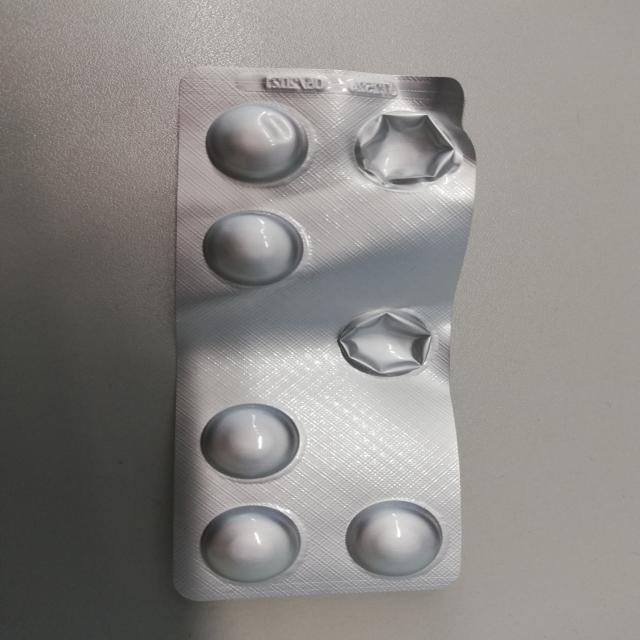Empty: (344, 97, 466, 192), (334, 302, 446, 381)
Pill: (192, 499, 308, 590), (198, 101, 315, 188), (192, 208, 314, 290), (191, 403, 311, 482), (341, 496, 448, 579)
